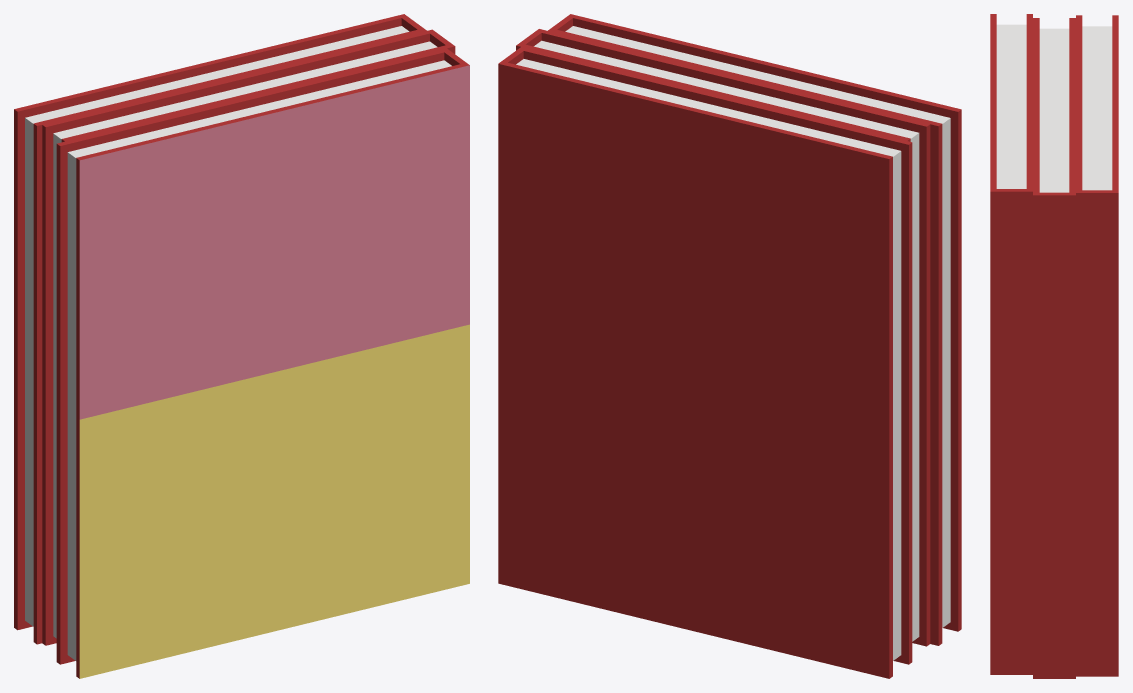
Rendered from Magazines_5.fbx.
The picture shows the model from 3 angles, left to right: view 1: azimuth 30°, elevation 25°; view 2: azimuth 150°, elevation 25°; view 3: azimuth 270°, elevation 25°; orthographic projection. The views are drawn at different scales.
Parts seen in each view (by area): view 1: Magazines_5; view 2: Magazines_5; view 3: Magazines_5.
Boxes of the visible parts, x1,y1,x2,y2 form: Magazines_5: (14, 14, 469, 678); Magazines_5: (498, 14, 961, 678); Magazines_5: (990, 14, 1118, 678).
Size of the model in its own units: 32.28 by 9.66 by 40.12.
